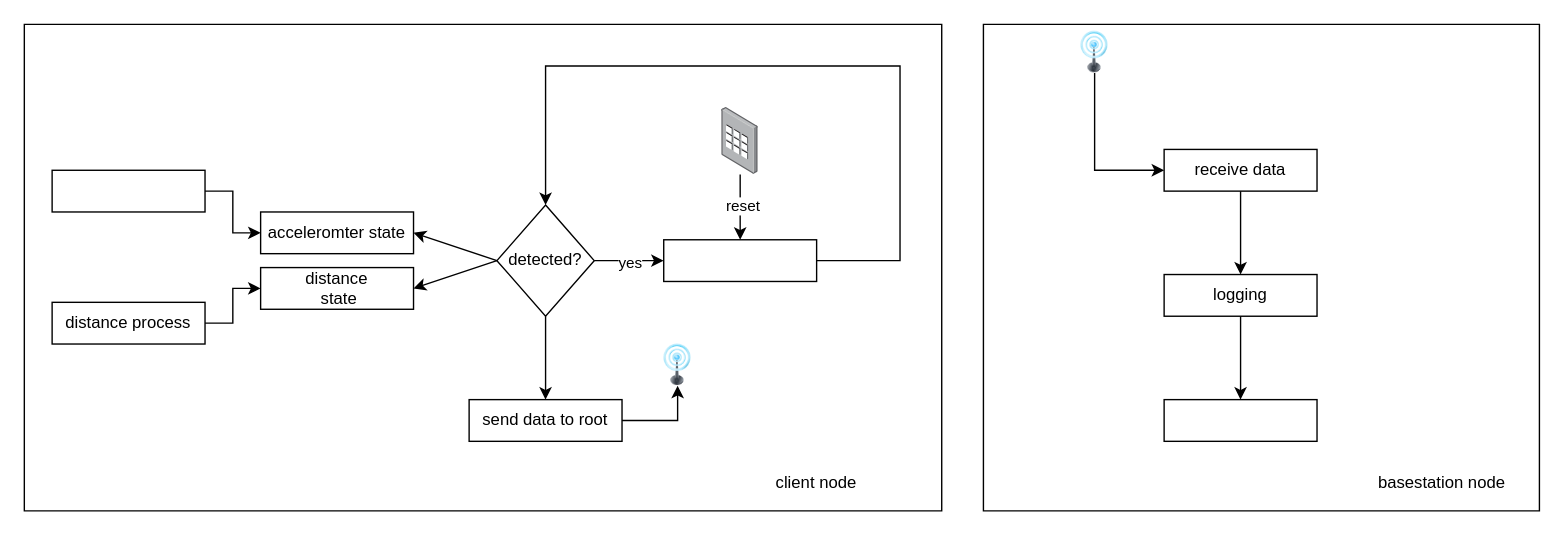
The diagram is 1564 pixels wide and 535 high, and some of its shapes have lost their labels. The shapes that lost their labels are listed below. From the top down, each one's centre as x and y in pixels, then its label:
pixel 128 190: acceleromter process
pixel 739 259: raise alarm
pixel 1240 419: update database
